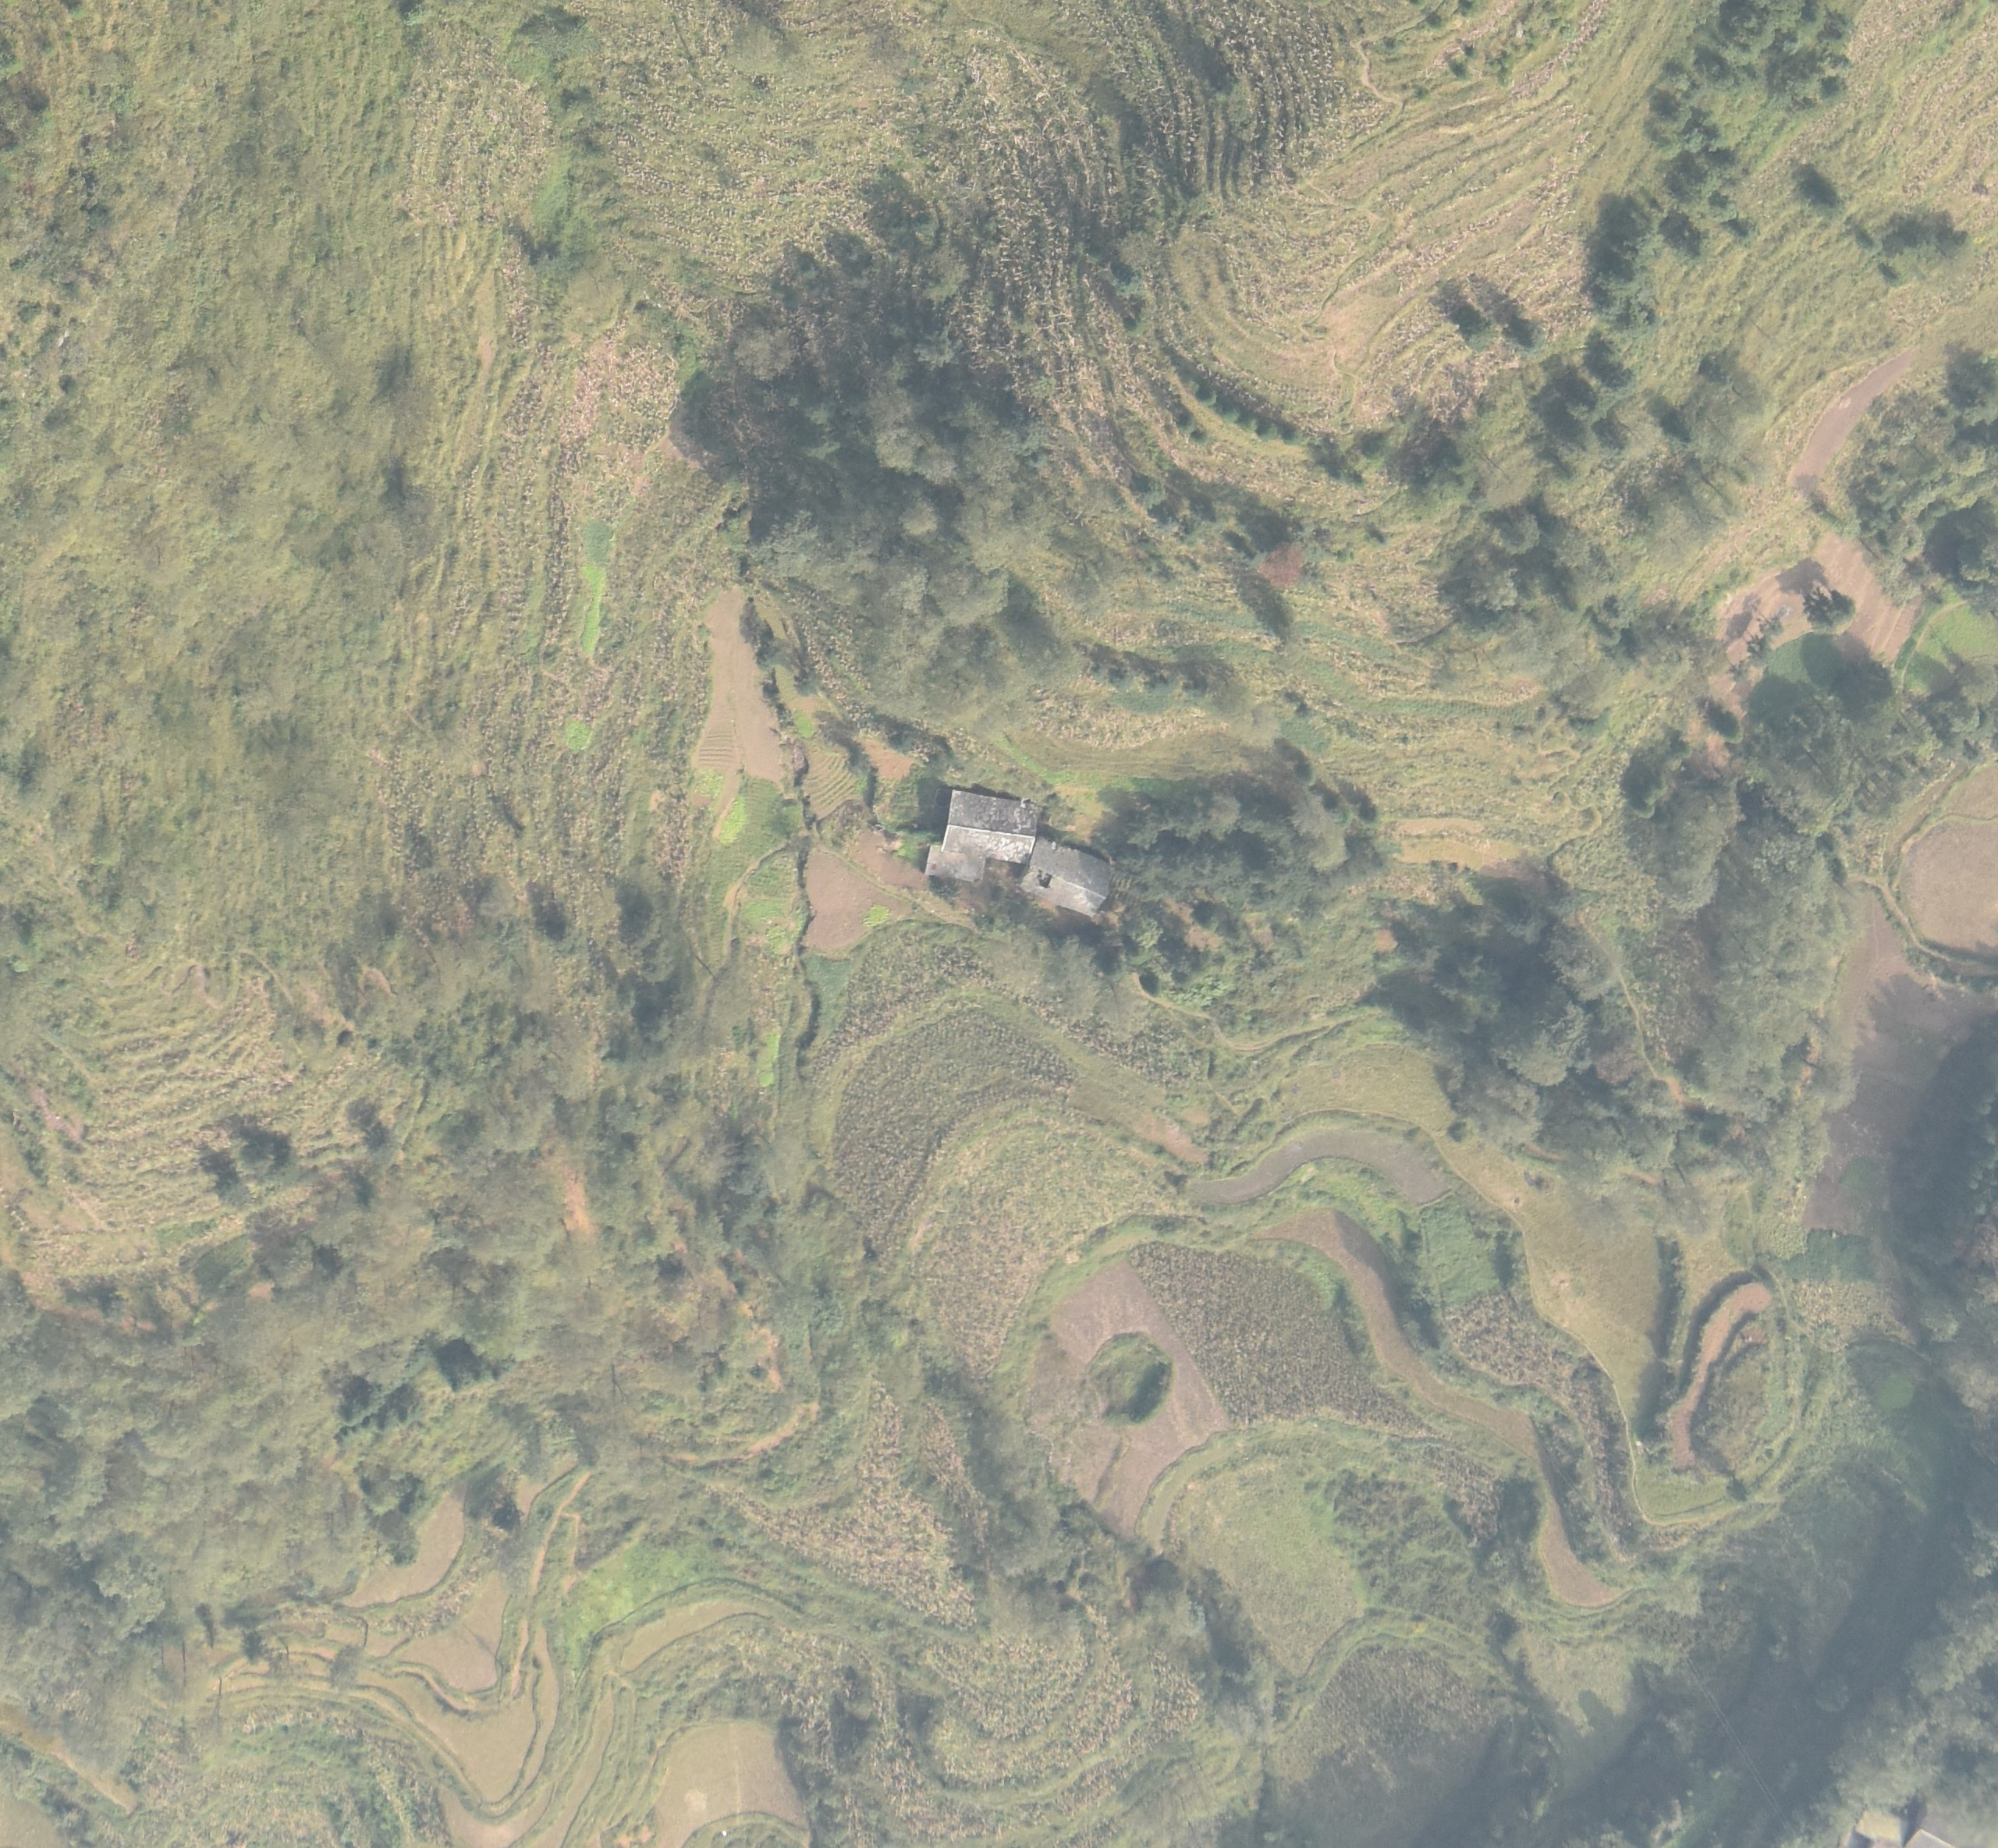building: (942, 789, 1038, 863), (1020, 838, 1110, 912), (923, 842, 983, 882)
